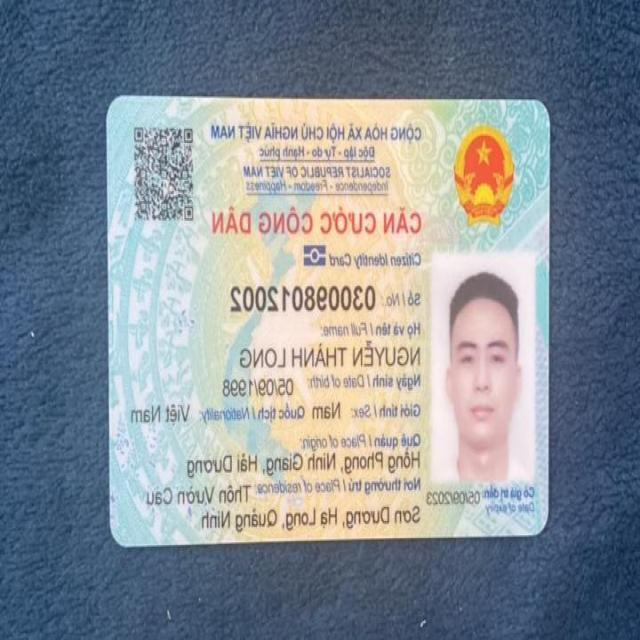bottom_left: (520, 505, 560, 548)
bottom_right: (100, 517, 140, 559)
image_person: (428, 254, 538, 484)
top_left: (524, 90, 562, 132)
top_right: (98, 86, 136, 124)
